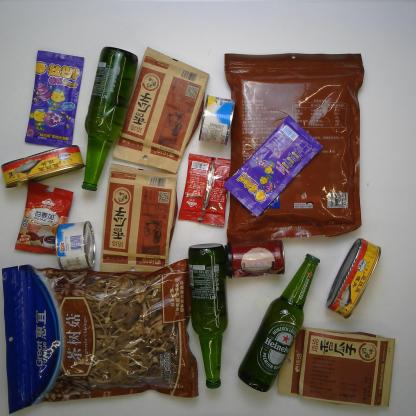Alcohol: (236, 250, 322, 394), (78, 42, 140, 193), (182, 240, 230, 390)
Candy: (220, 113, 324, 221), (21, 46, 87, 152)
Canned Food: (325, 237, 384, 321), (0, 142, 89, 191), (220, 238, 288, 280), (53, 219, 98, 274), (196, 91, 237, 145)
Dried Food: (0, 253, 201, 416), (220, 49, 366, 245), (108, 43, 213, 175), (271, 318, 397, 411), (98, 160, 180, 278)
Instant Drink: (12, 178, 77, 257), (176, 152, 236, 228)
